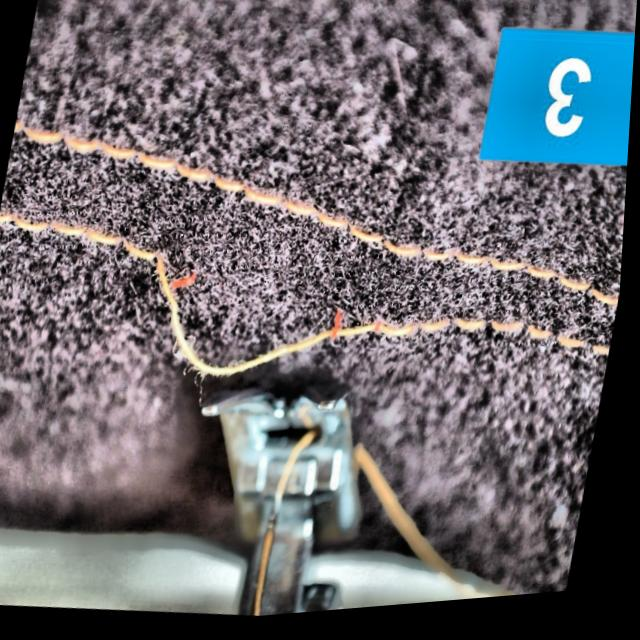Stitch: (75, 213, 424, 437)
